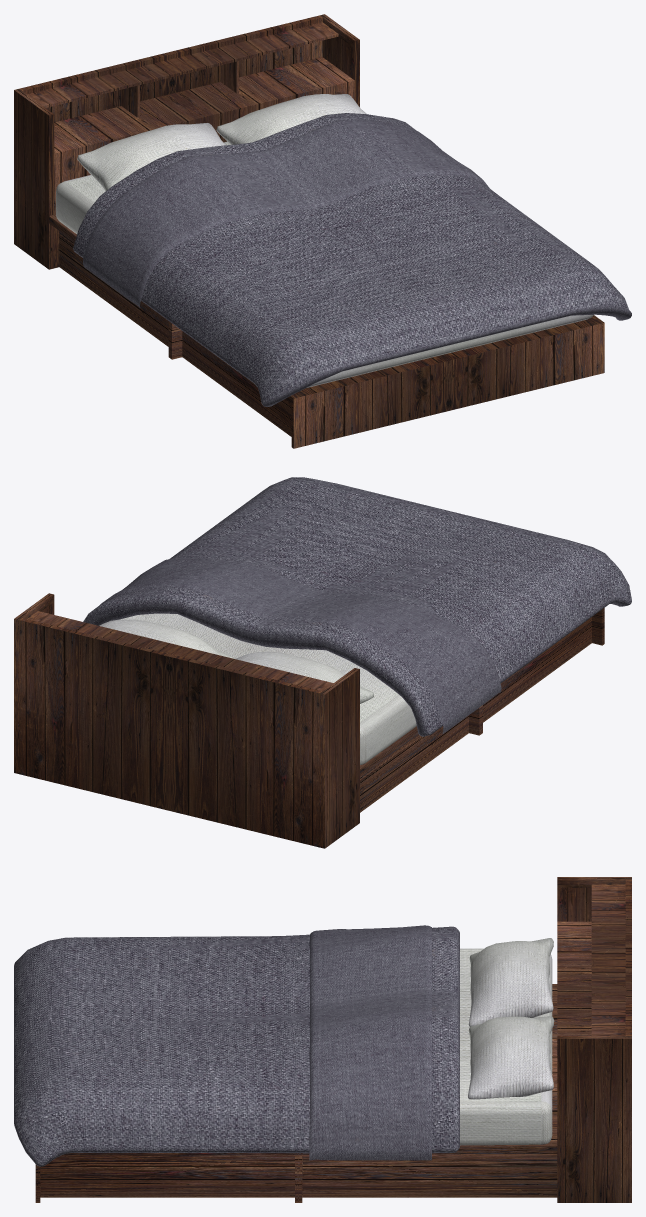
Rendered from Coq_funiture_Bed01.fbx.
The picture shows the model from 3 angles, top to bottom: view 1: azimuth 30°, elevation 25°; view 2: azimuth 150°, elevation 25°; view 3: azimuth 270°, elevation 25°; orthographic projection. The views are drawn at different scales.
Visible parts, largest first — view 1: bed_comforter, bad_base, bed_pillow, bed_cushion; view 2: bed_comforter, bad_base, bed_cushion, bed_pillow; view 3: bed_comforter, bad_base, bed_pillow, bed_cushion.
Boxes of the visible parts, left/top/right/bottom form: bed_comforter: left=73, top=113, right=631, bottom=406; bad_base: left=14, top=14, right=604, bottom=448; bed_pillow: left=77, top=94, right=366, bottom=191; bed_cushion: left=56, top=141, right=593, bottom=387; bed_comforter: left=83, top=477, right=631, bottom=736; bad_base: left=14, top=593, right=604, bottom=848; bed_cushion: left=120, top=613, right=416, bottom=765; bed_pillow: left=99, top=619, right=373, bottom=703; bed_comforter: left=14, top=925, right=459, bottom=1166; bad_base: left=35, top=877, right=631, bottom=1202; bed_pillow: left=468, top=938, right=554, bottom=1099; bed_cushion: left=460, top=948, right=552, bottom=1145.
Size of the model in its own units: 238 by 94.73 by 323.
